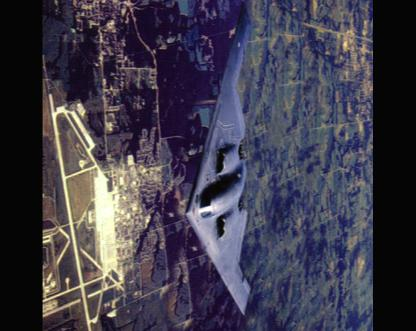B1: (184, 0, 252, 314)
